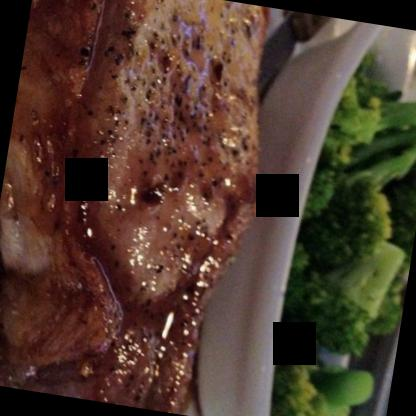beef: (0, 0, 282, 415)
